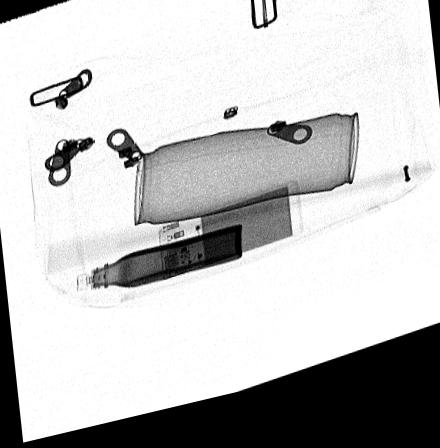Powerbank: (156, 192, 303, 288)
